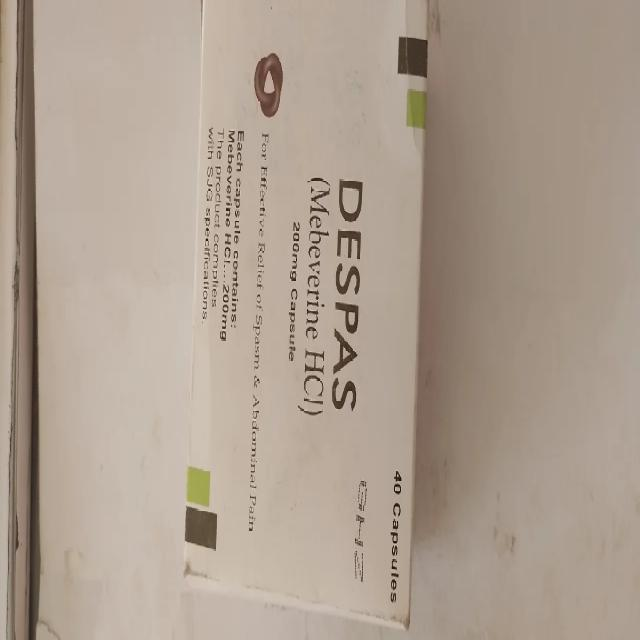drug-name: (332, 176, 365, 410)
